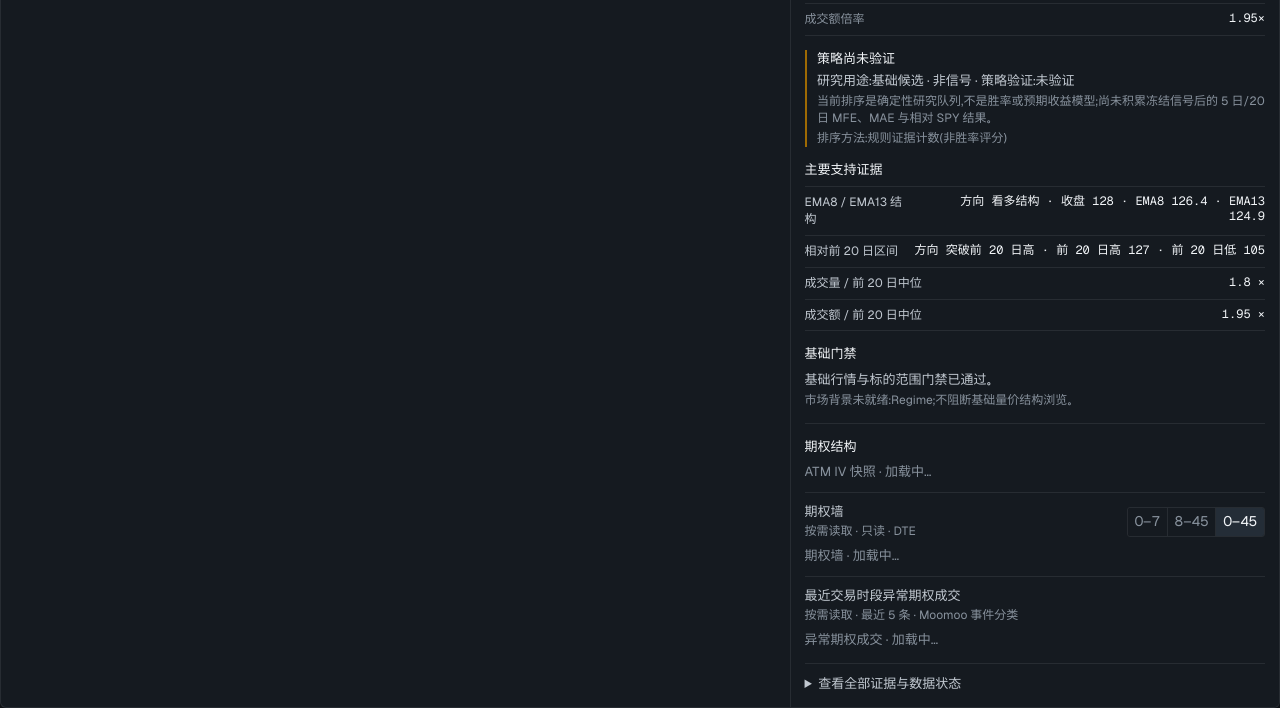
DailyOpportunityList › keeps a no-Regime candidate visible as watch-only research
(page scrolled)
What coordinates should you click on to do the following:
click the heading "查看全部证据与数据状态"
I would click on:
 (890, 683)
Its box is [818,676,961,691].
(page scrolled)
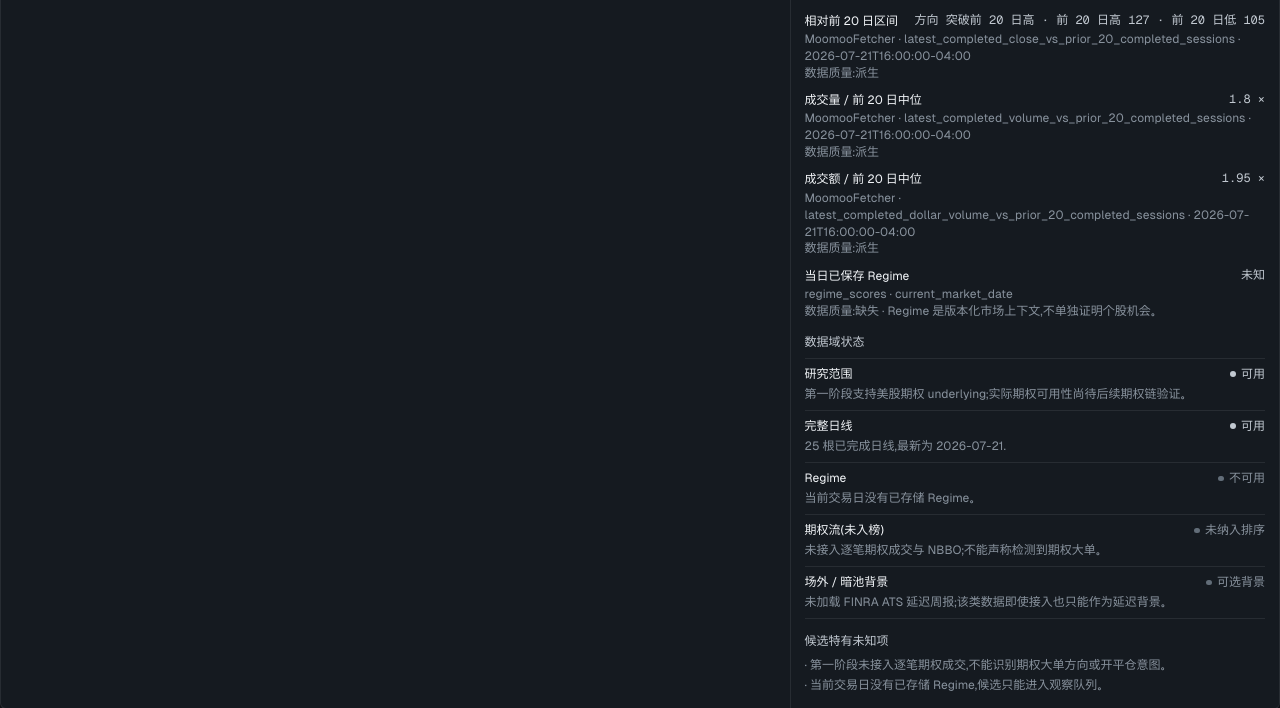
Check: the text "当日已保存 Regime" is shown, box [804,268,909,284]
Check: the text "当前交易日没有已存储 Regime。" is shown, box [804,491,974,505]
Check: the list item "· 当前交易日没有已存储 Regime，候选只能进入观察队列。" is shown, box [804,678,1102,692]
